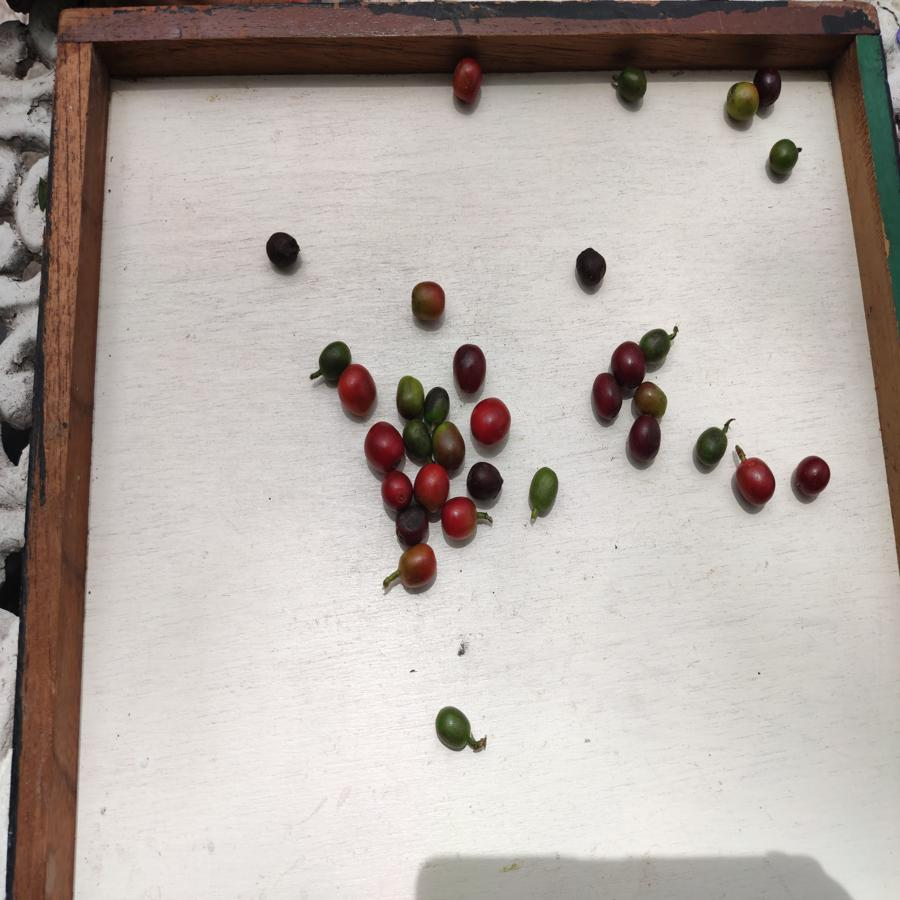Inmaduro: (434, 707, 473, 754), (527, 465, 559, 515), (614, 64, 648, 103), (767, 138, 801, 176), (696, 425, 727, 466), (404, 418, 432, 461), (641, 329, 675, 362), (315, 340, 344, 374), (424, 387, 449, 423)
Maduro: (732, 456, 778, 508), (337, 364, 379, 418), (362, 420, 405, 472), (469, 397, 513, 445), (448, 58, 486, 104), (440, 496, 478, 539), (414, 463, 449, 507), (378, 470, 413, 508)
Pinton: (395, 545, 439, 592), (410, 279, 447, 327), (723, 78, 759, 124), (434, 424, 466, 467), (397, 376, 424, 417), (636, 383, 668, 416)
Sobremaduro: (609, 339, 644, 393), (453, 342, 486, 395), (592, 372, 625, 422), (629, 414, 662, 464), (466, 461, 507, 500), (795, 453, 829, 499), (573, 246, 608, 288), (264, 232, 301, 271), (396, 505, 428, 543), (758, 66, 782, 110)
